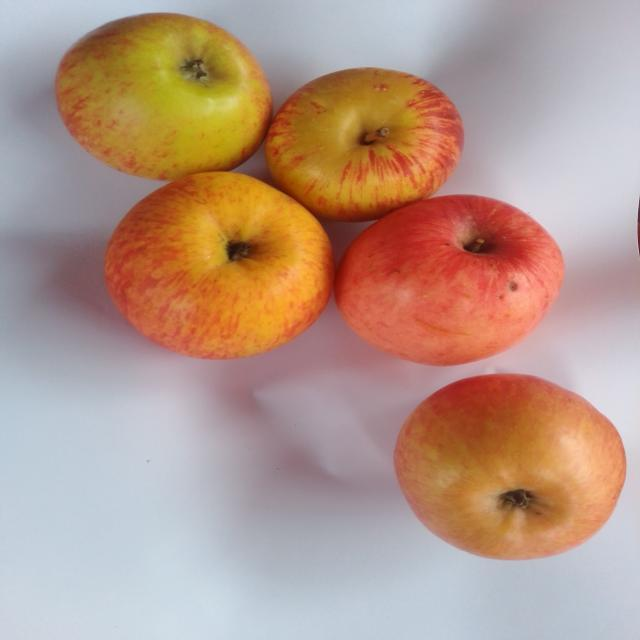Fresh Apple: (105, 164, 340, 364), (398, 368, 628, 562), (342, 190, 563, 377), (53, 13, 270, 184), (262, 60, 456, 207)
